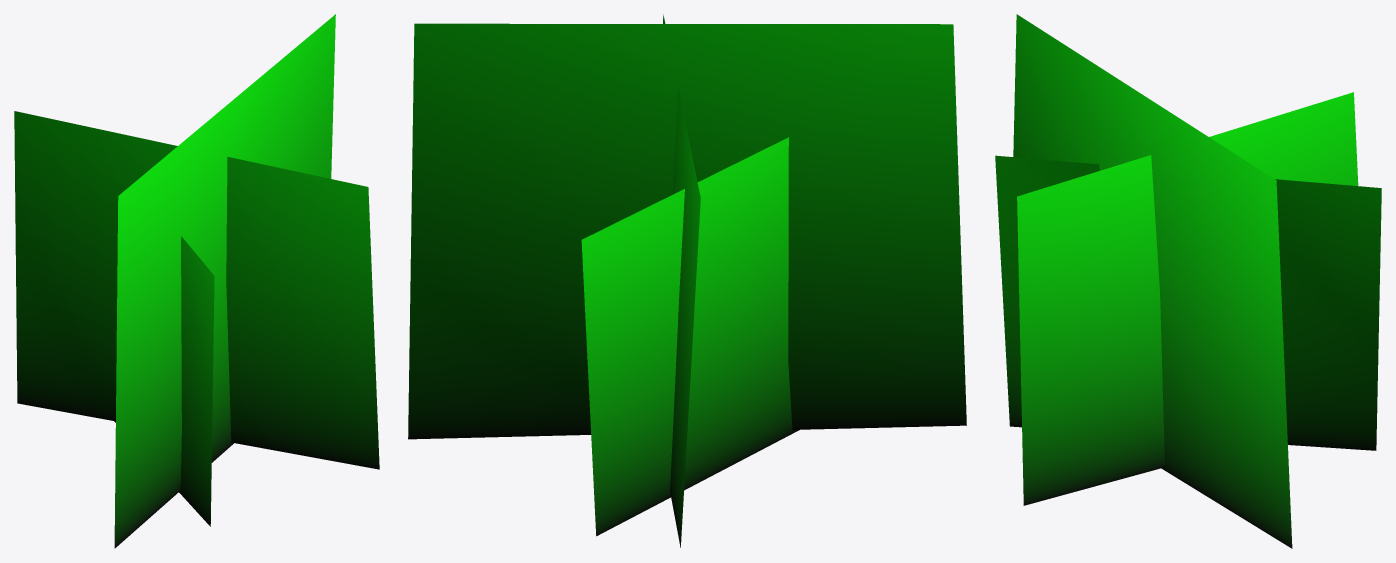
Rendered from Grass_Size02.fbx.
The picture shows the model from 3 angles, left to right: view 1: azimuth 30°, elevation 25°; view 2: azimuth 150°, elevation 25°; view 3: azimuth 270°, elevation 25°; orthographic projection. The views are drawn at different scales.
Parts seen in each view (by area): view 1: PP_grass_04; view 2: PP_grass_04; view 3: PP_grass_04.
Boxes of the visible parts, box(x1,y1,x2,y2) form: PP_grass_04: box(14, 14, 379, 548); PP_grass_04: box(408, 14, 966, 547); PP_grass_04: box(995, 14, 1381, 548).
Bounding box in the file's own units: 40.27 × 39.46 × 36.87.
